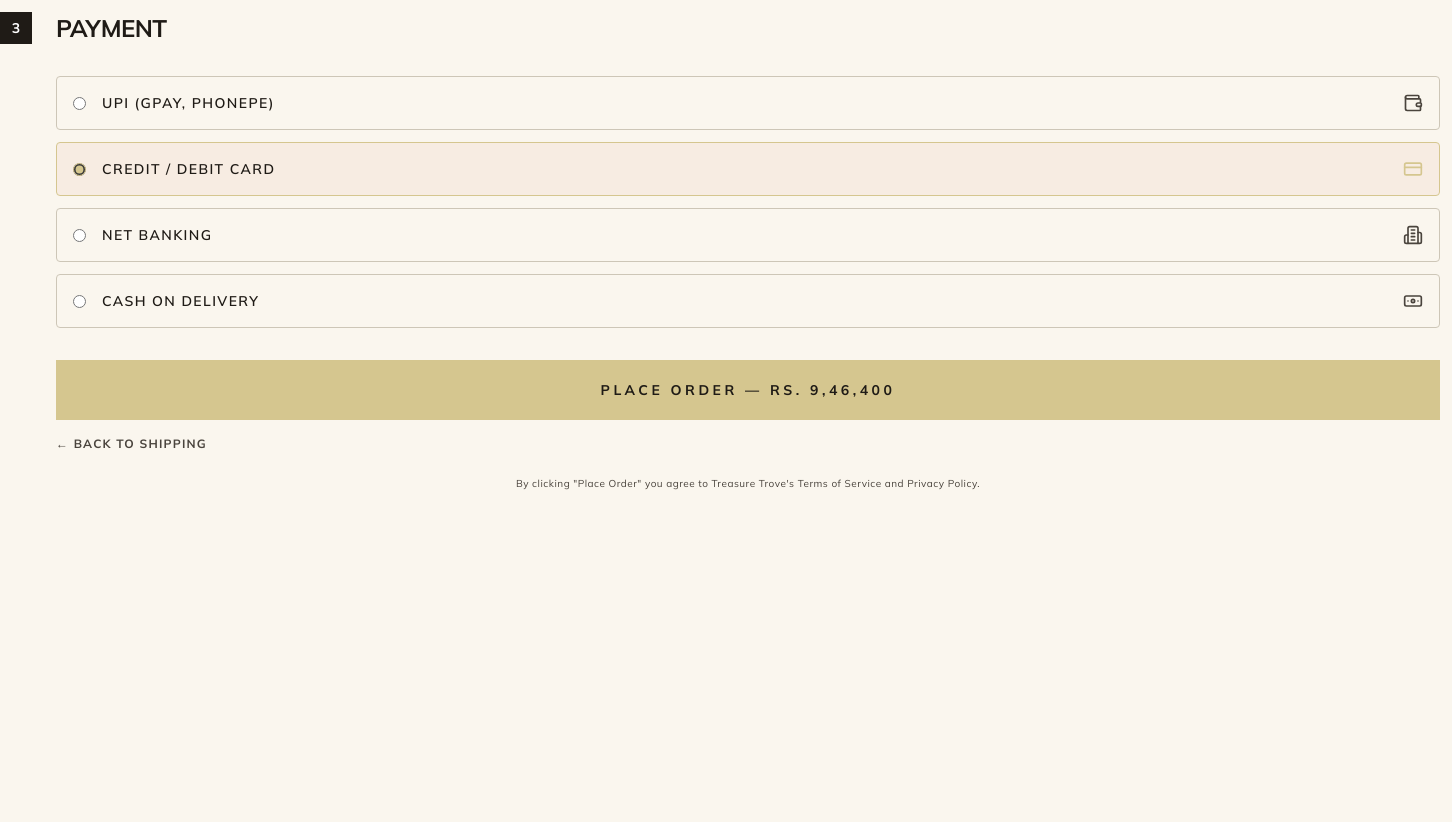
Test: PaymentStep › shows the Razorpay error message when payment fails in the modal
Click the button with test id "place-order-button": (748,390) [56, 360, 1440, 420]
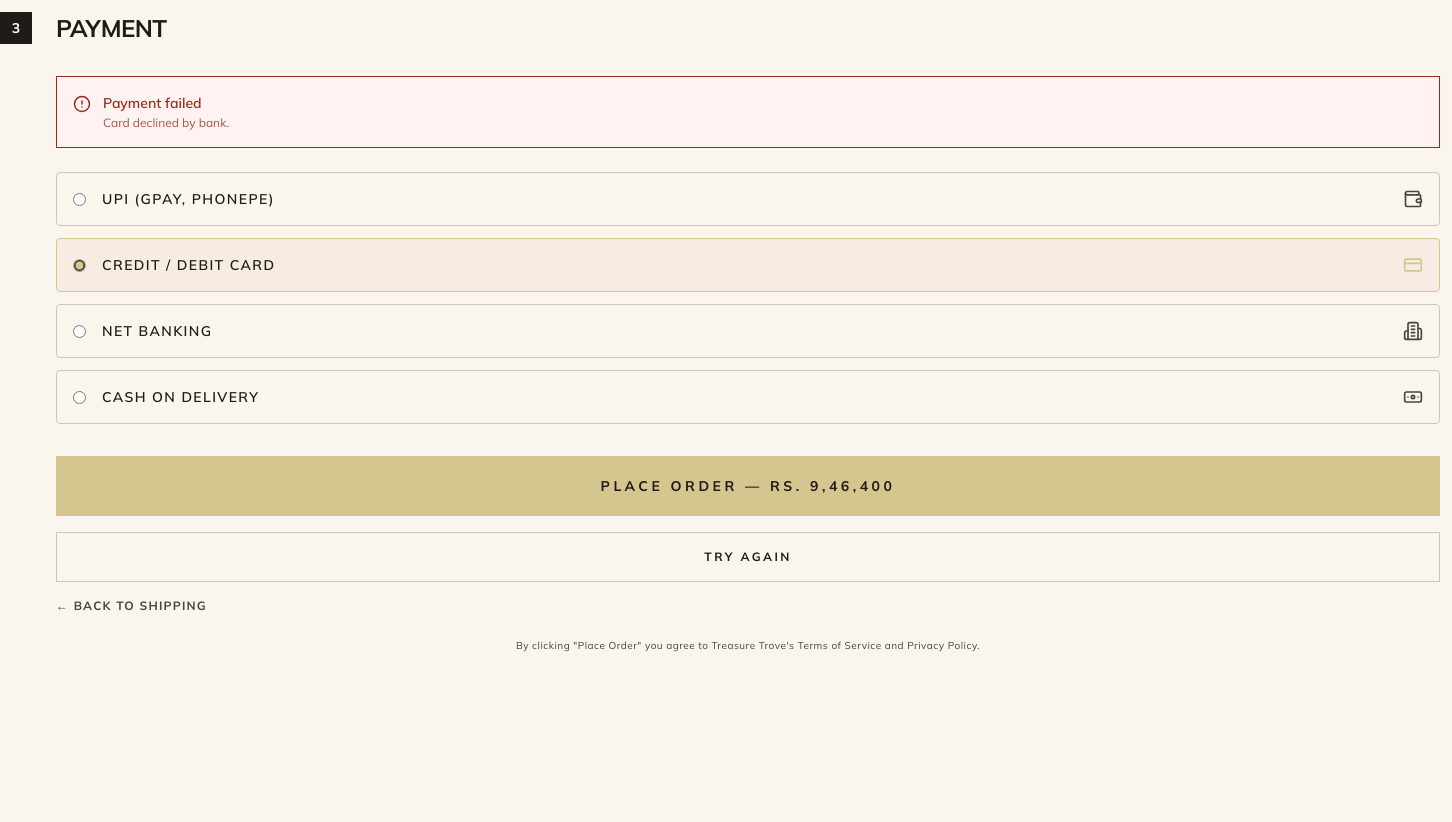
Expected: the message with test id "payment-error" shows "Card declined by bank.", [103, 115, 229, 130]
Expected: the button with test id "retry-payment-button" is shown, [56, 532, 1440, 582]
